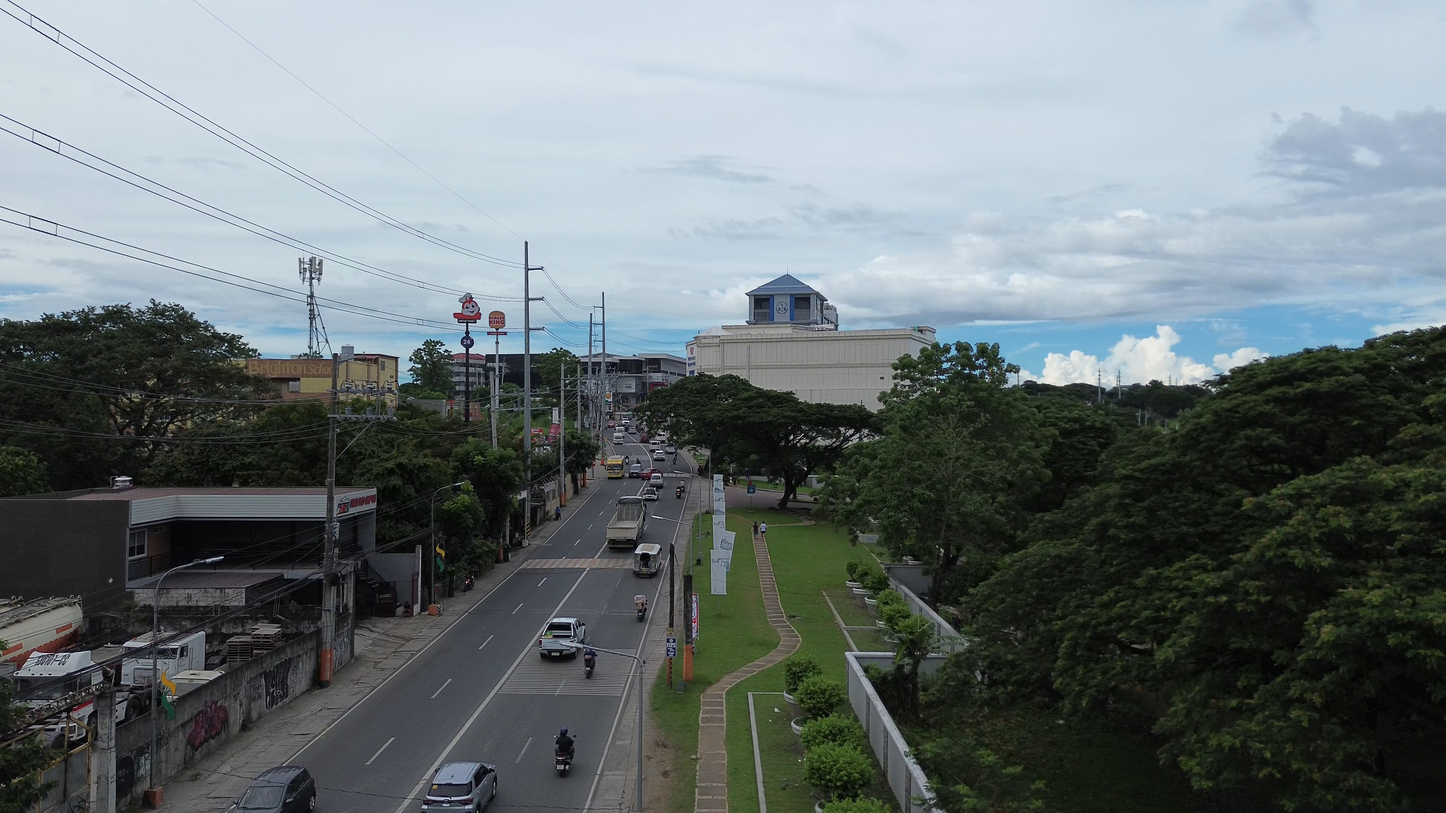car: (648, 471, 663, 487), (642, 486, 657, 500), (651, 449, 666, 461), (665, 445, 677, 454)
motorcycle: (555, 749, 572, 775), (583, 653, 596, 678), (635, 601, 647, 622), (463, 575, 474, 591)
vehicle: (0, 597, 82, 676), (15, 651, 104, 708), (421, 762, 497, 813), (236, 765, 316, 813), (606, 496, 647, 549), (538, 617, 586, 658), (121, 633, 151, 686), (632, 543, 661, 577), (605, 457, 624, 478), (583, 649, 596, 678), (634, 595, 647, 621), (648, 471, 664, 488), (640, 486, 658, 501), (628, 463, 642, 478), (651, 449, 666, 461), (613, 431, 627, 443), (675, 483, 685, 498), (665, 445, 677, 454), (625, 426, 636, 434), (606, 421, 615, 428)
